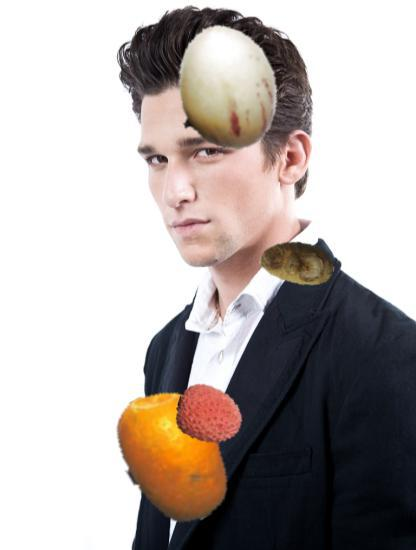Ginger: (260, 226, 335, 301)
Kumquats: (104, 388, 242, 526)
Lychee: (176, 381, 245, 450)
Pepino: (160, 25, 289, 154)
